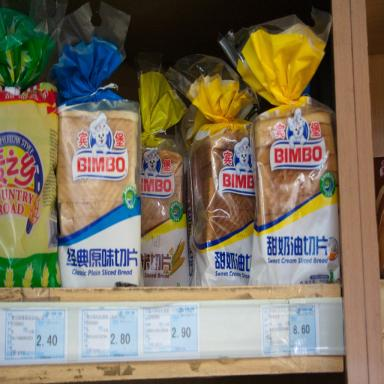plasticbag: (218, 5, 344, 288), (44, 0, 142, 284), (164, 52, 258, 286), (0, 7, 63, 288), (135, 67, 194, 284)
